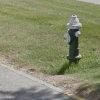Hydrant: (57, 8, 89, 76)
